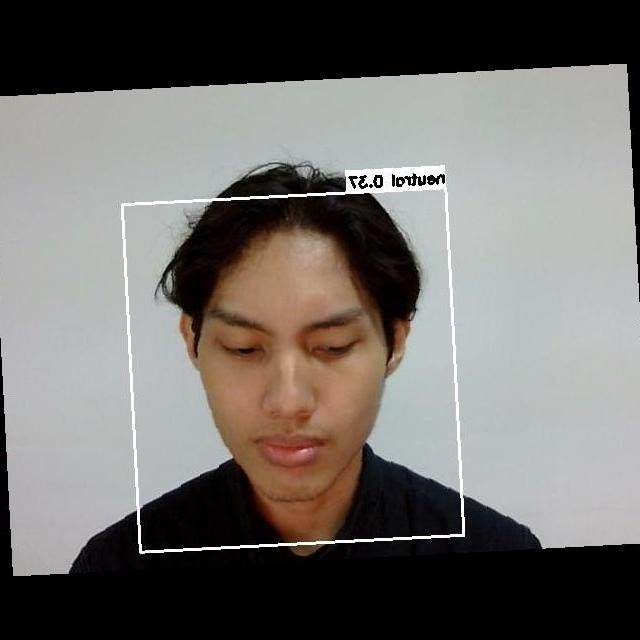Angry: (193, 285, 403, 475)
